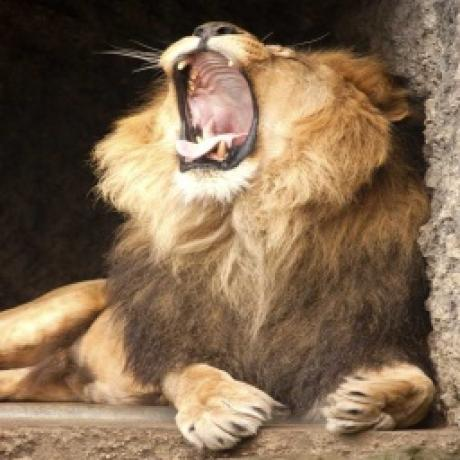Lion: (0, 20, 437, 454)
